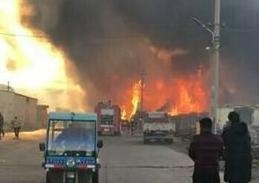fire: (0, 0, 87, 111), (118, 52, 214, 121)
